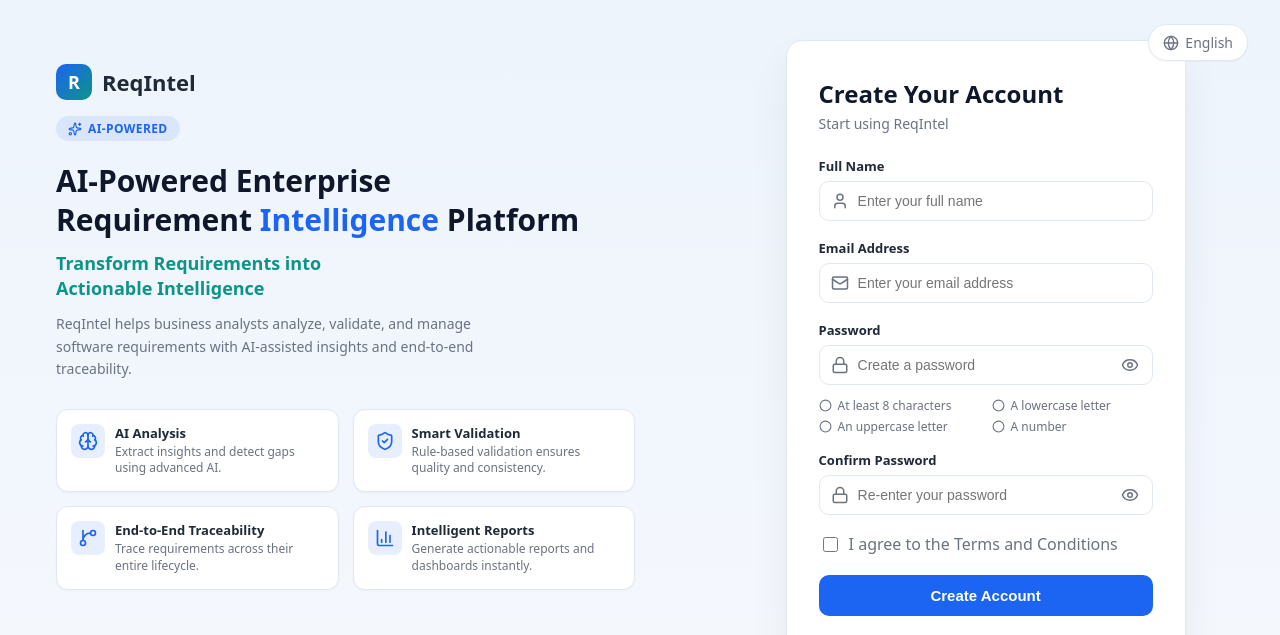
RegisterPage › success shows check-your-email (not 'redirecting'), never sends confirmPassword, and can resend
The width and height of the screenshot is (1280, 635).
Type "Ada Lovelace" into the field labelled "Full Name".
click(986, 201); type("Ada Lovelace")  # box [819,181,1153,221]
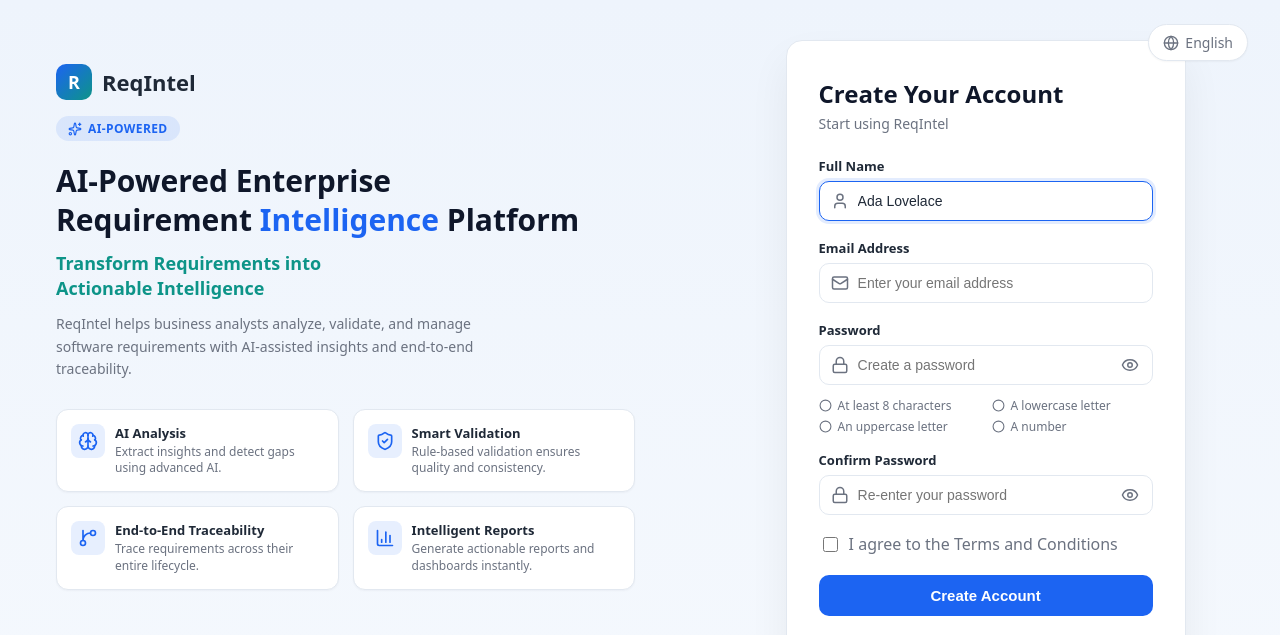
Type "ada@example.com" into the field labelled "Email Address".
click(986, 283); type("ada@example.com")  # box [819,263,1153,303]
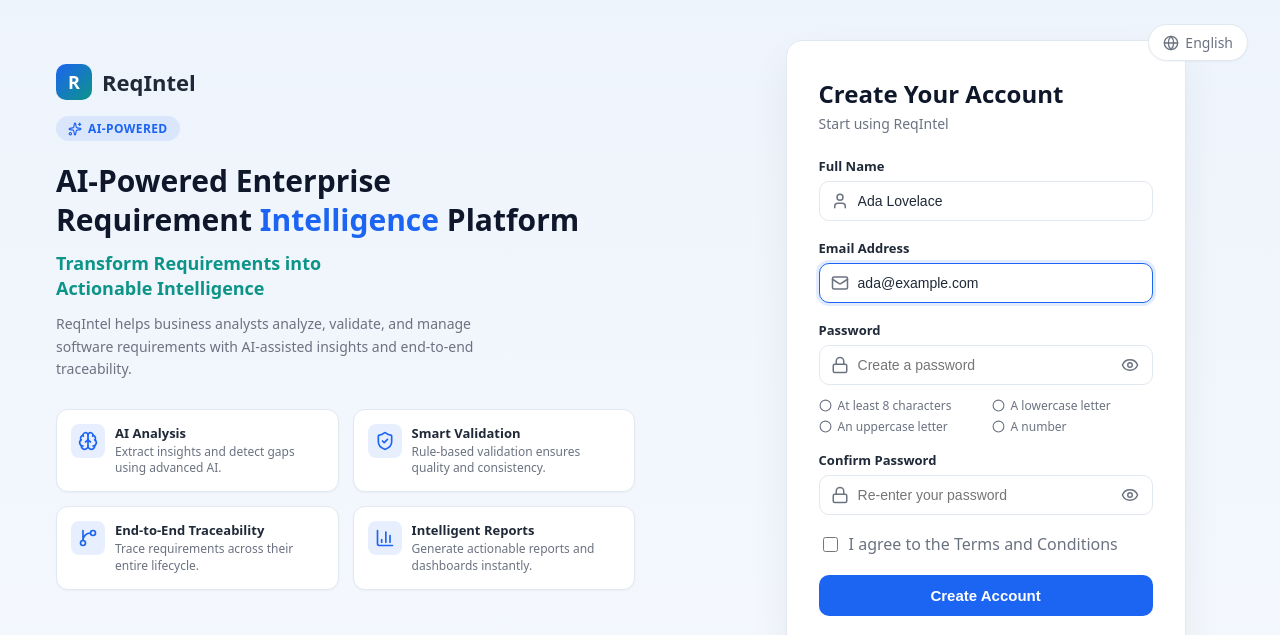
Type "Longenough1" into the password field labelled "Password".
click(986, 365); type("Longenough1")  # box [819,345,1153,385]
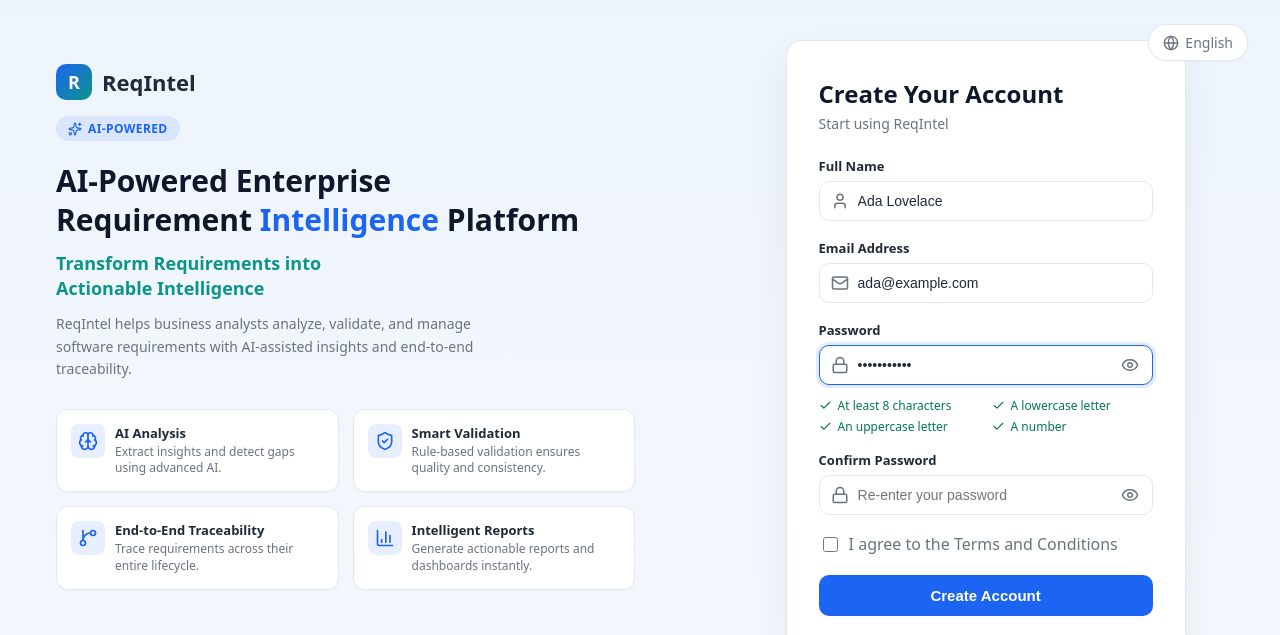
Type "Longenough1" into the password field labelled "Confirm Password".
click(986, 495); type("Longenough1")  # box [819,475,1153,515]
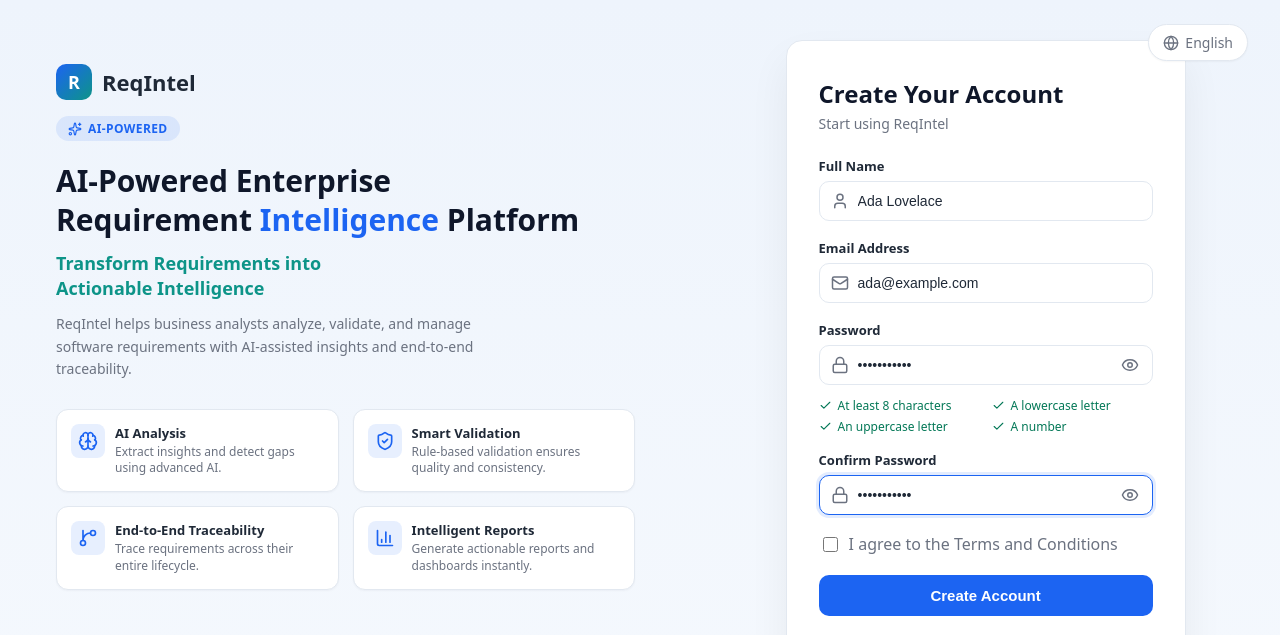
Click the checkbox labelled "I agree to the Terms and Conditions".
click(830, 544)  # box [823,536,838,552]
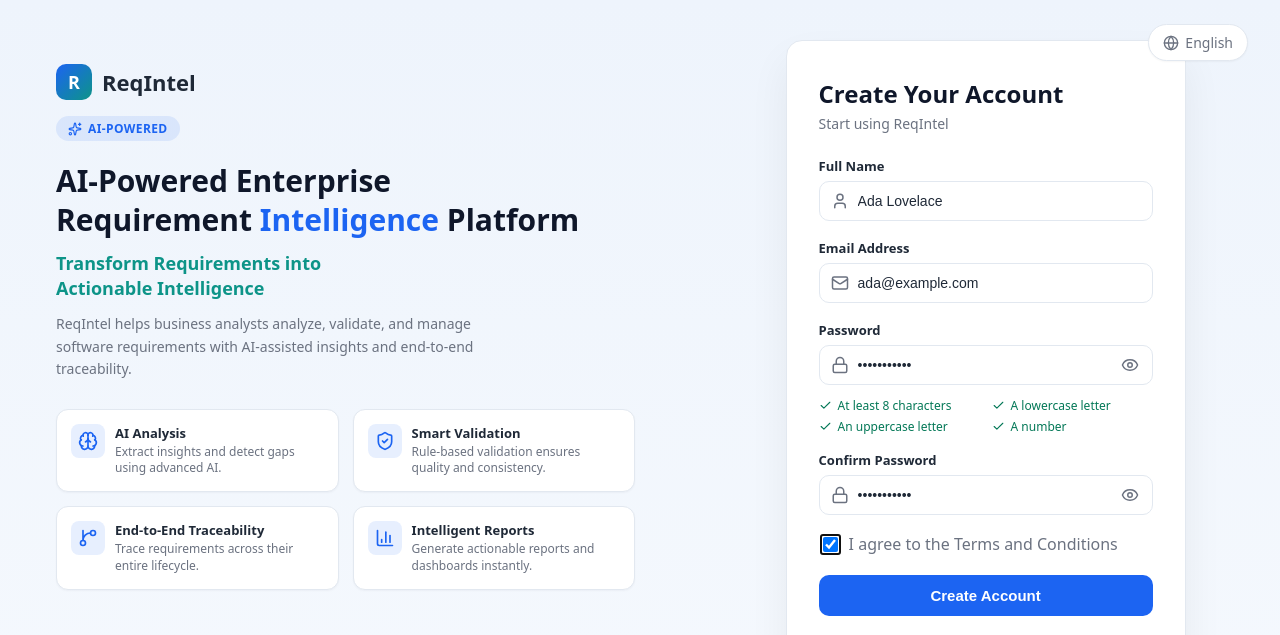
Click the button "Create Account".
click(986, 596)  # box [819,575,1153,616]
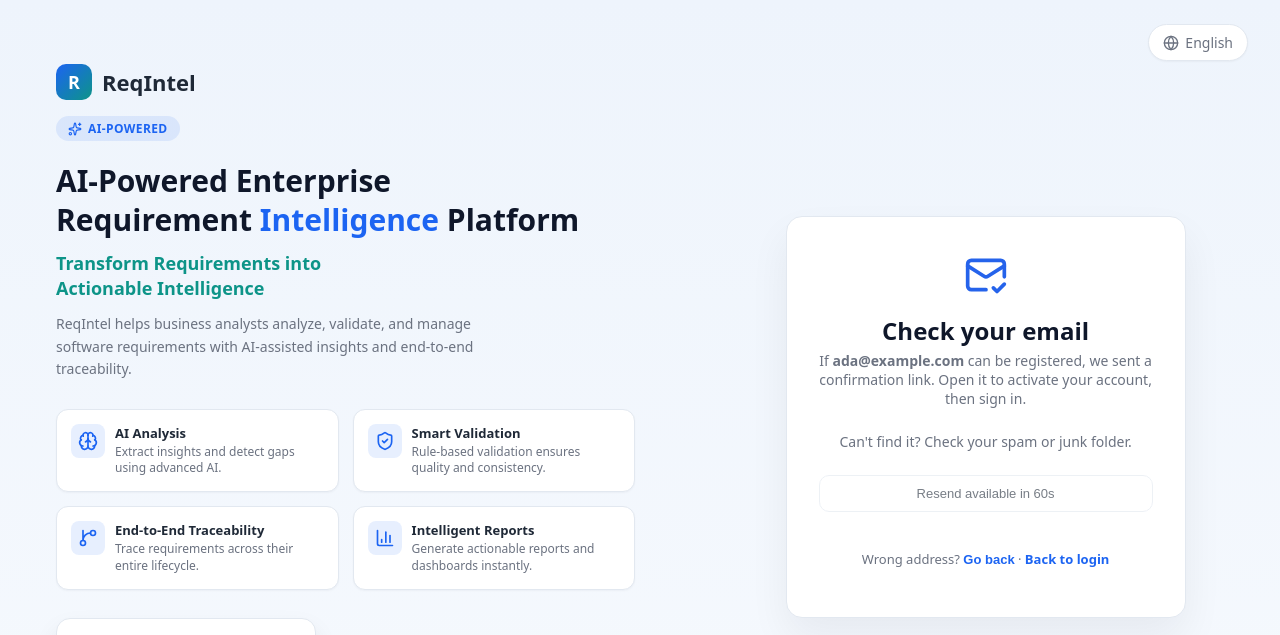
Expected: the heading "Check your email" is shown, [882,314,1089,347]
Expected: the button "Resend available in 60s" is disabled, [819,475,1153,512]
